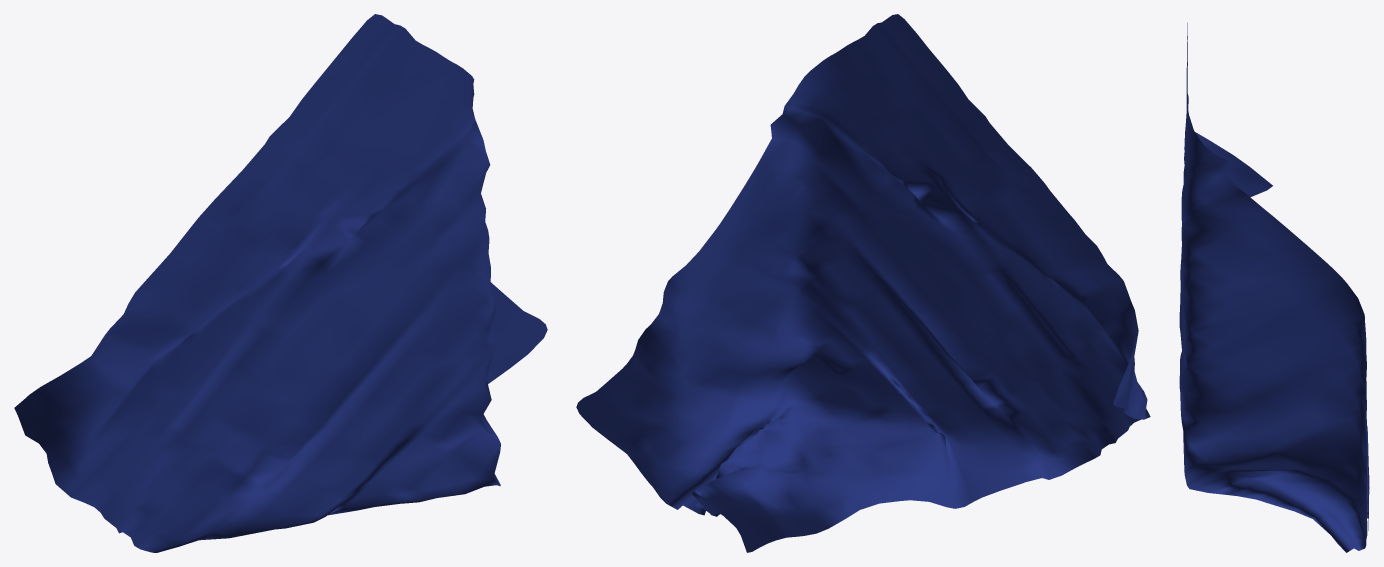
File: BedsheetUnmade_20_BedsheetUnmade_5_2.obj
3 views of the same model, side by side, from view 1: azimuth 30°, elevation 25°; view 2: azimuth 150°, elevation 25°; view 3: azimuth 270°, elevation 25° (orthographic). The views are drawn at different scales.
Parts seen in each view (by area): view 1: BedsheetUnmade_5; view 2: BedsheetUnmade_5; view 3: BedsheetUnmade_5.
Part boxes in pixels (bbox=[...]): BedsheetUnmade_5: bbox=[14, 14, 547, 552]; BedsheetUnmade_5: bbox=[576, 14, 1150, 552]; BedsheetUnmade_5: bbox=[1179, 23, 1369, 552].
Bounding box in the file's own units: 1.59 × 1.5 × 0.5253.
